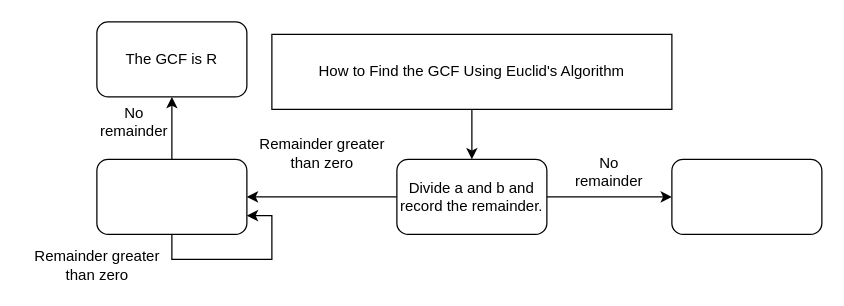
The diagram is 844 pixels wide and 306 high, and some of its shapes have lost their labels. Each missing label, with the centre of its shape:
B is the GCF: the point at 746,196
Divide b by the remainder: the point at 171,196
